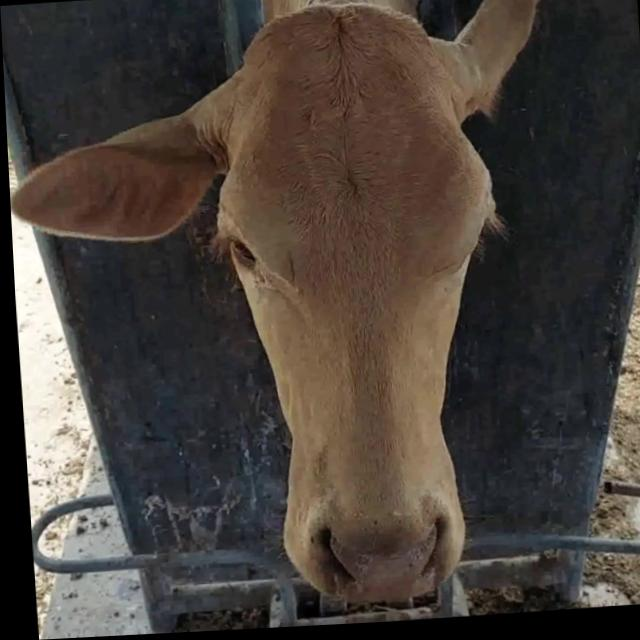cowFace: (196, 2, 500, 604)
